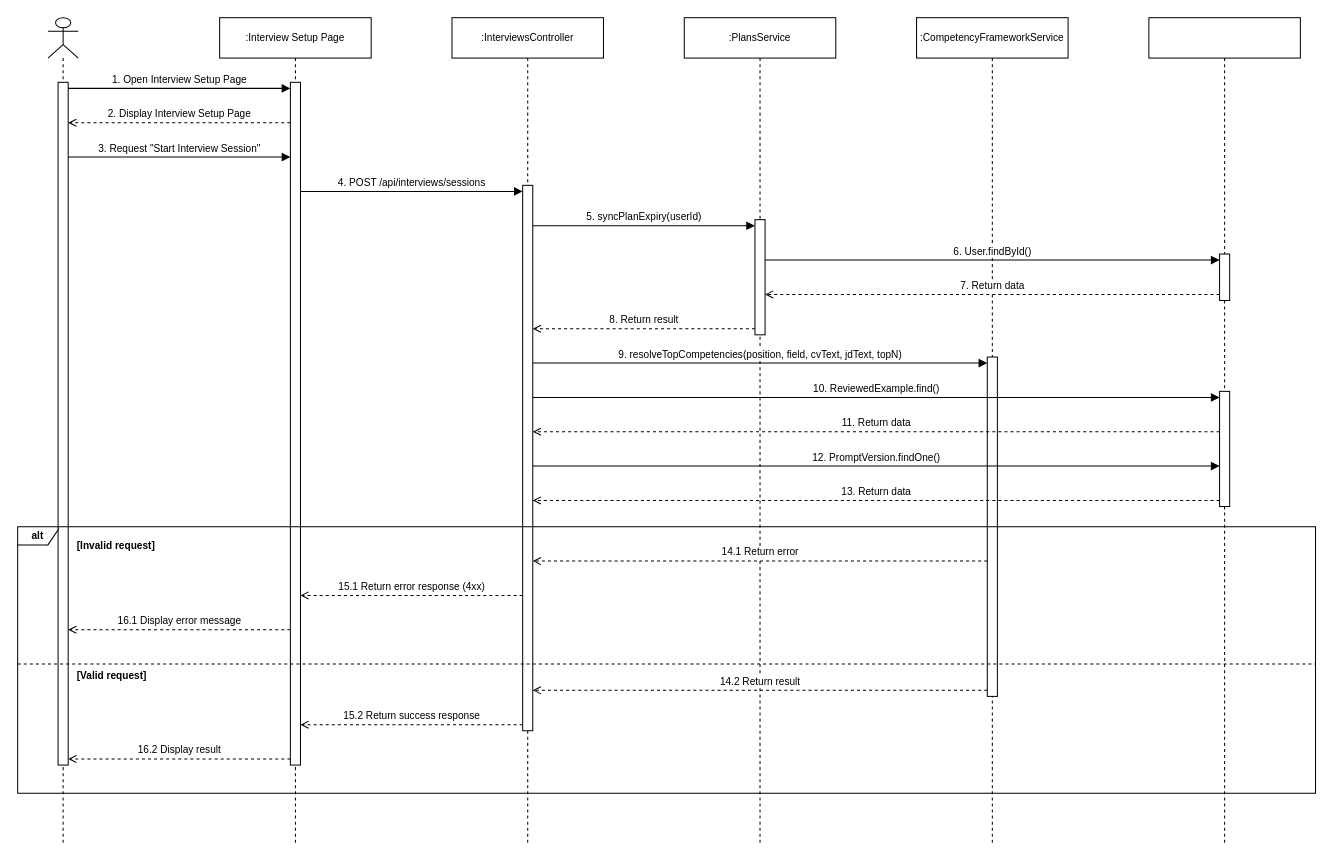
Some shapes in this 1334 by 862 pixel diagram are drawn without their labels. Each missing label, with the box of its shape:
:Database: (1148, 17, 1300, 844)
Candidate: (47, 17, 78, 844)
